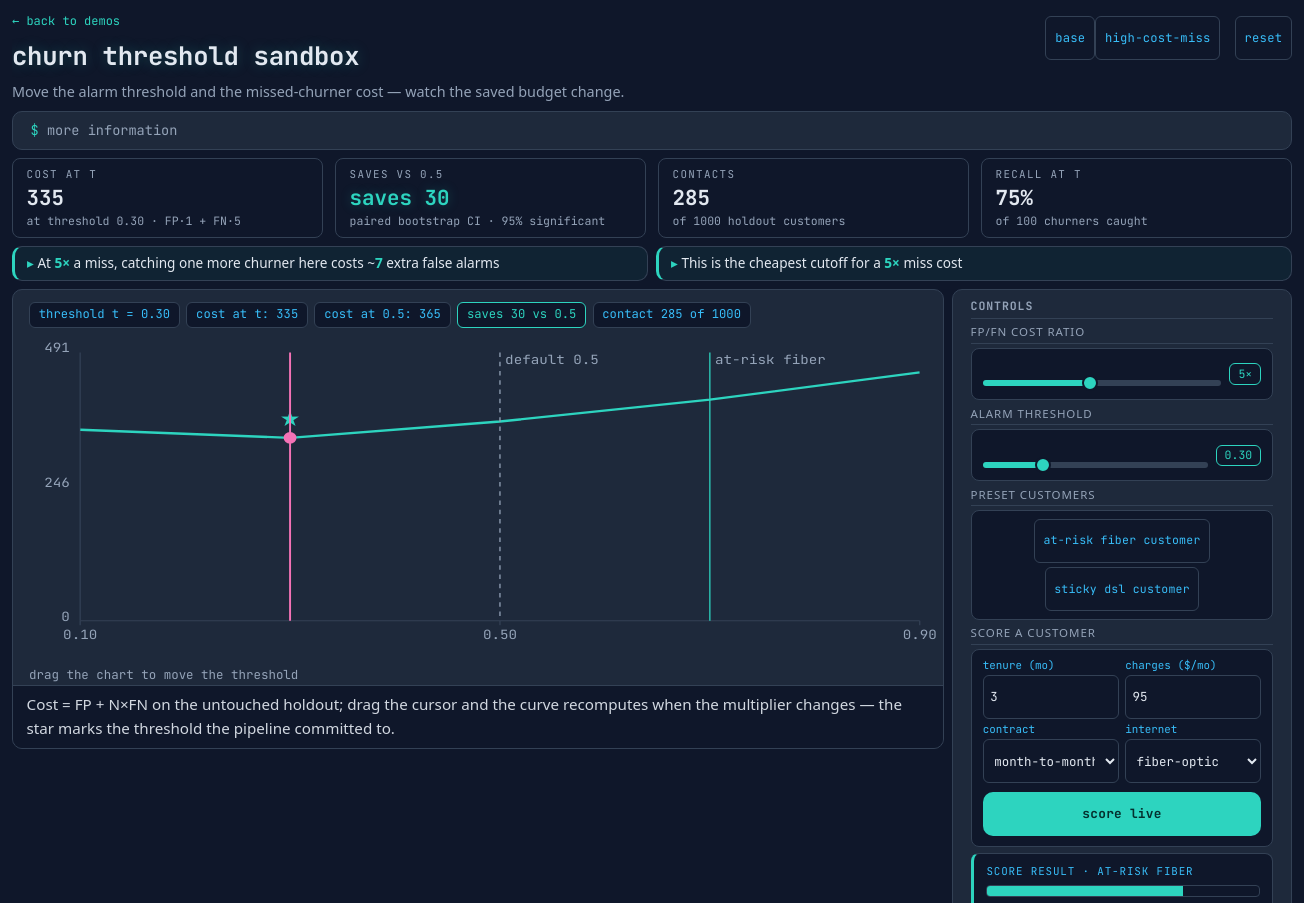
ChurnSandbox › cost-composition panel rescales with the FN slider and tracks the cursor
Set the slider labelled "FP/FN cost ratio" to "9" at point(1189, 374), box [983,352,1221,396]
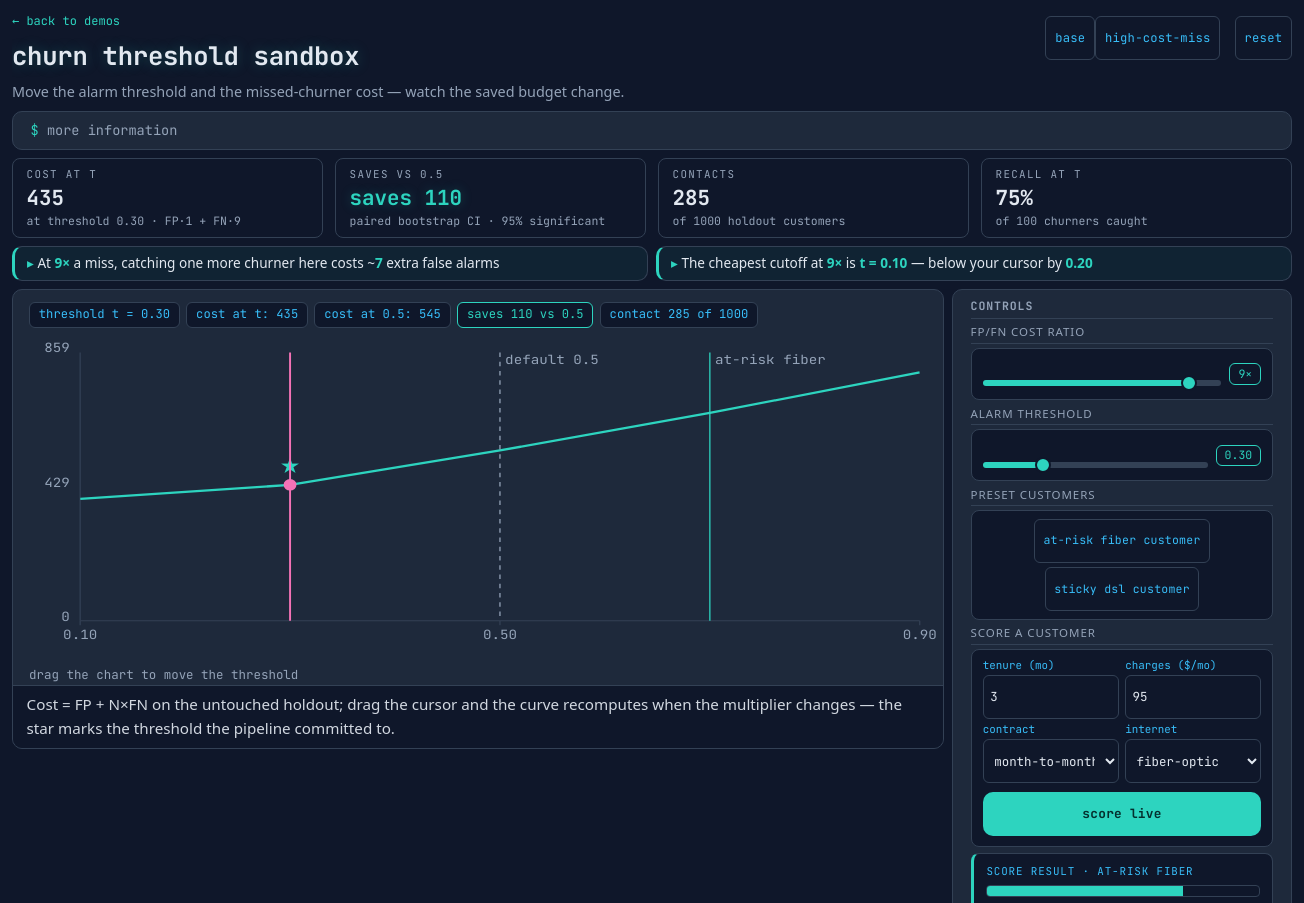
Press the mouse on the picture named "campaign cost over alarm threshold" at point(478, 495), box [13,334,943,657]
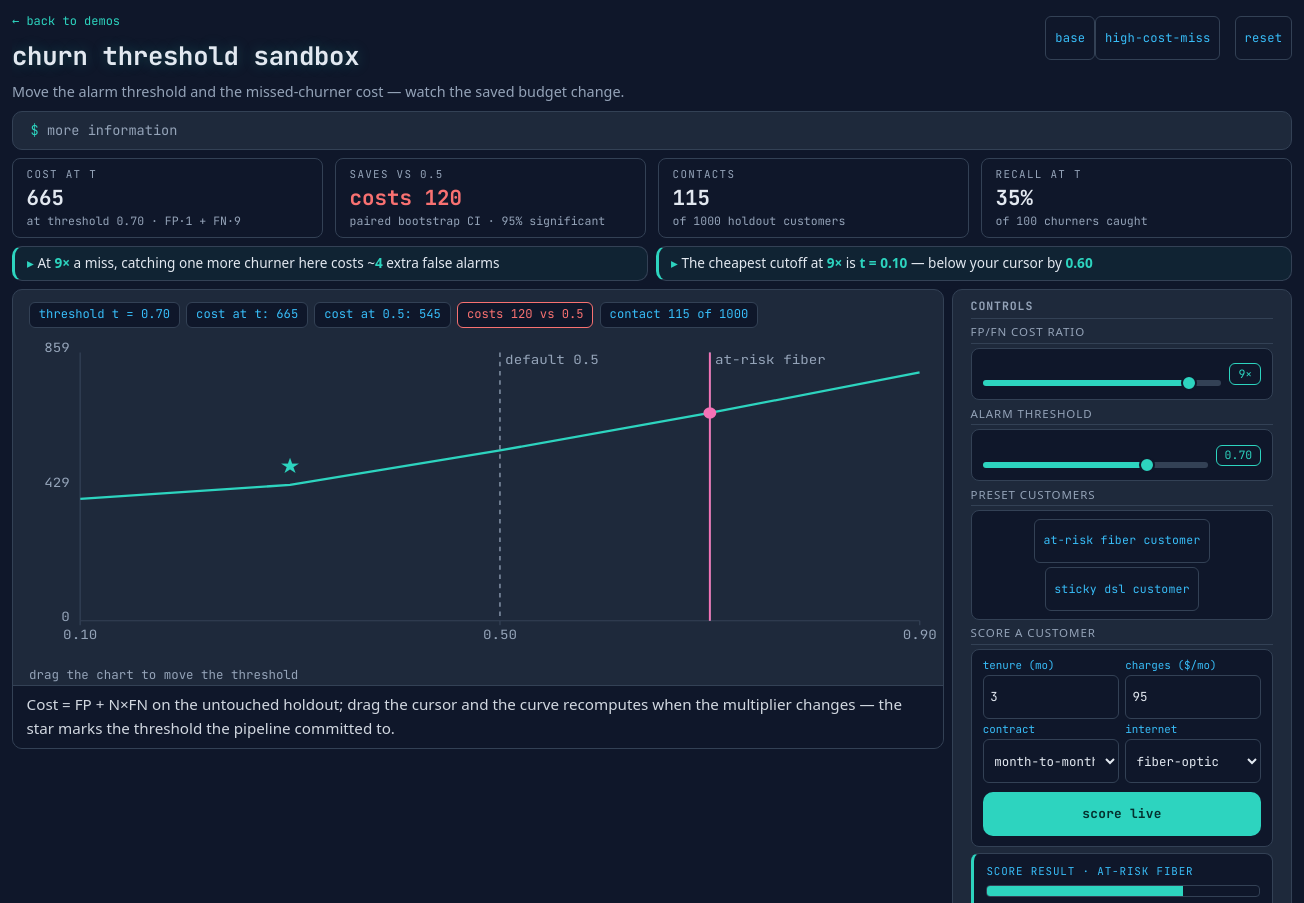
Check: the text "threshold t = 0.70" is shown, box [29,302,180,328]
